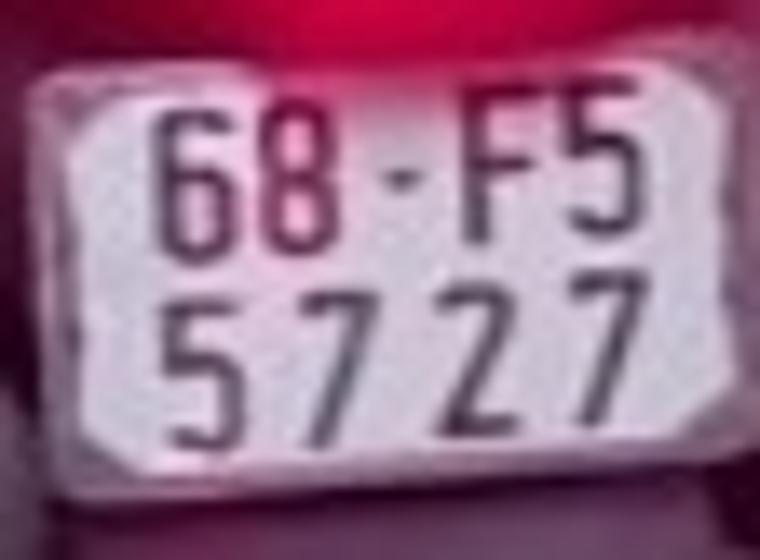-: (382, 168, 418, 191)
2: (431, 279, 519, 440)
5: (560, 77, 645, 235), (157, 303, 245, 451)
6: (151, 112, 236, 259)
7: (567, 270, 657, 422), (302, 290, 373, 453)
8: (257, 103, 337, 258)
F: (459, 80, 537, 248)
